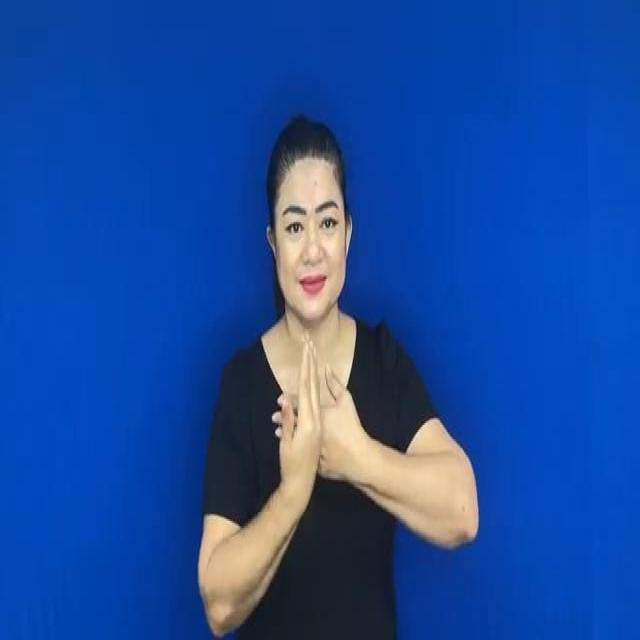bread: (268, 330, 370, 509)
